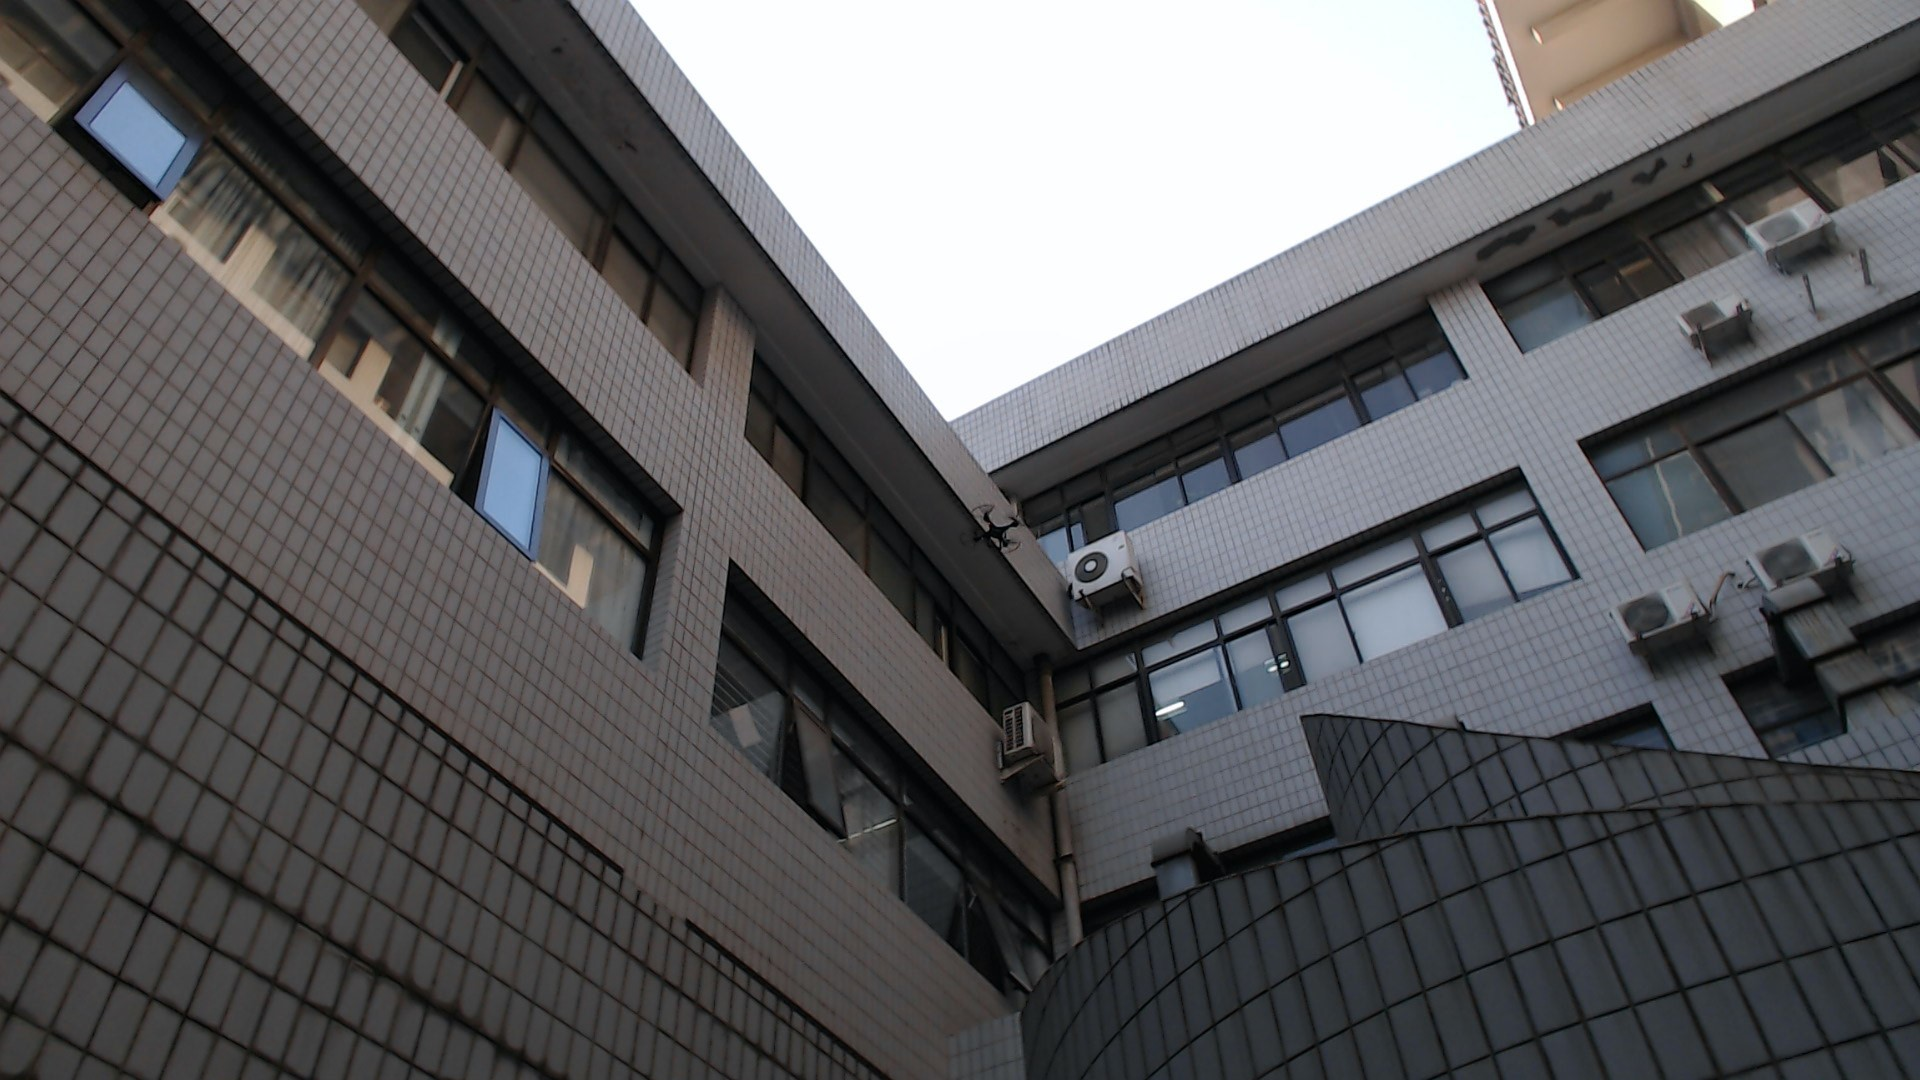drone: (953, 484, 1033, 567)
